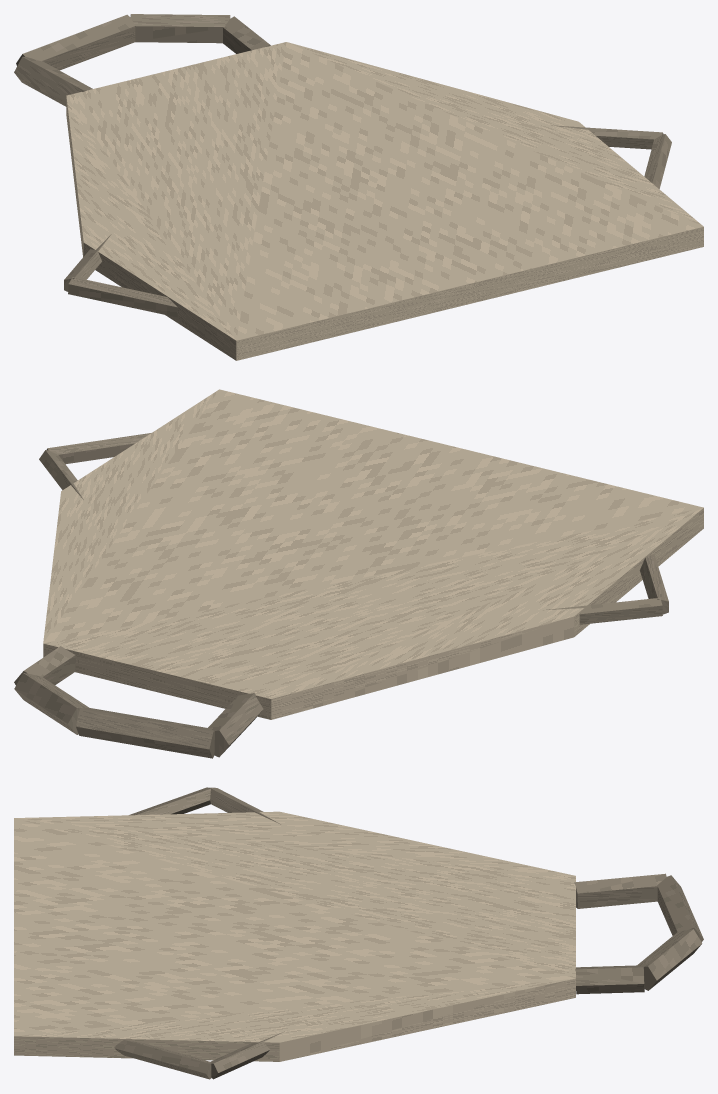
File: apron_cotton.glb
3 views of the same model, one above another, from view 1: azimuth 30°, elevation 25°; view 2: azimuth 150°, elevation 25°; view 3: azimuth 270°, elevation 25° (orthographic). The views are drawn at different scales.
Parts seen in each view (by area): view 1: block_apron panel, block_neck loop 1, block_waist tie 1 (×2), block_neck loop 2, block_waist tie 0 (×2), block_neck loop 0, block_neck loop 3; view 2: block_apron panel, block_neck loop 1, block_waist tie 0 (×2), block_waist tie 1 (×2), block_neck loop 2, block_neck loop 0, block_neck loop 3; view 3: block_apron panel, block_waist tie 1 (×2), block_neck loop 0, block_neck loop 3, block_waist tie 0 (×2), block_neck loop 2, block_neck loop 1.
Part boxes in pixels (<box>): block_apron panel: <box>66,42,703,360</box>; block_neck loop 1: <box>16,14,135,70</box>; block_waist tie 1 (×2): <box>68,134,671,317</box>; block_neck loop 2: <box>130,14,230,43</box>; block_waist tie 0 (×2): <box>64,125,663,291</box>; block_neck loop 0: <box>14,56,92,106</box>; block_neck loop 3: <box>223,16,270,53</box>; block_apron panel: <box>43,389,703,719</box>; block_neck loop 1: <box>76,708,214,758</box>; block_waist tie 0 (×2): <box>39,450,662,624</box>; block_waist tie 1 (×2): <box>46,433,668,614</box>; block_neck loop 2: <box>14,673,89,734</box>; block_neck loop 0: <box>208,693,263,757</box>; block_neck loop 3: <box>14,646,75,685</box>; block_apron panel: <box>14,811,575,1061</box>; block_waist tie 1 (×2): <box>115,787,212,1079</box>; block_neck loop 0: <box>574,873,666,908</box>; block_neck loop 3: <box>575,965,644,994</box>; block_waist tie 0 (×2): <box>209,787,284,1079</box>; block_neck loop 2: <box>637,929,702,990</box>; block_neck loop 1: <box>657,875,703,941</box>.
Bounding box in the file's own units: 0.5528 × 0.0265 × 0.5724.
1 material, 1 textured.
